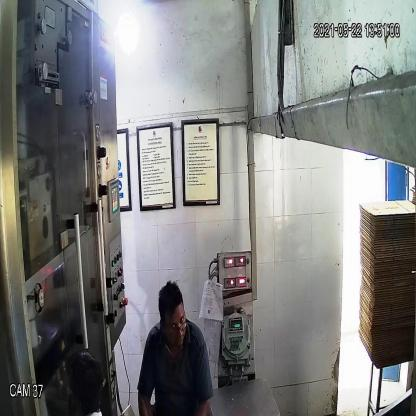goggles: (163, 314, 188, 344)
